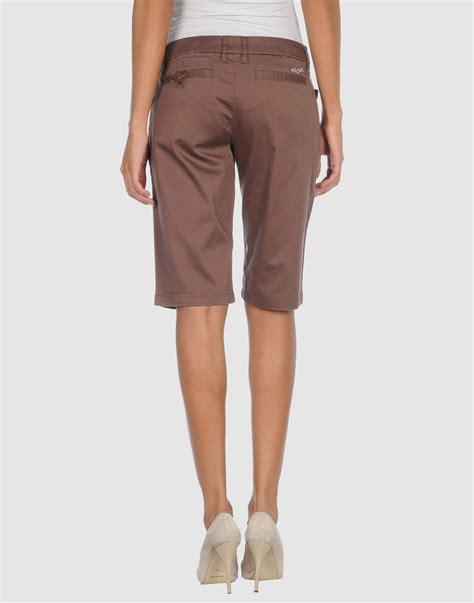short: (148, 34, 323, 308)
